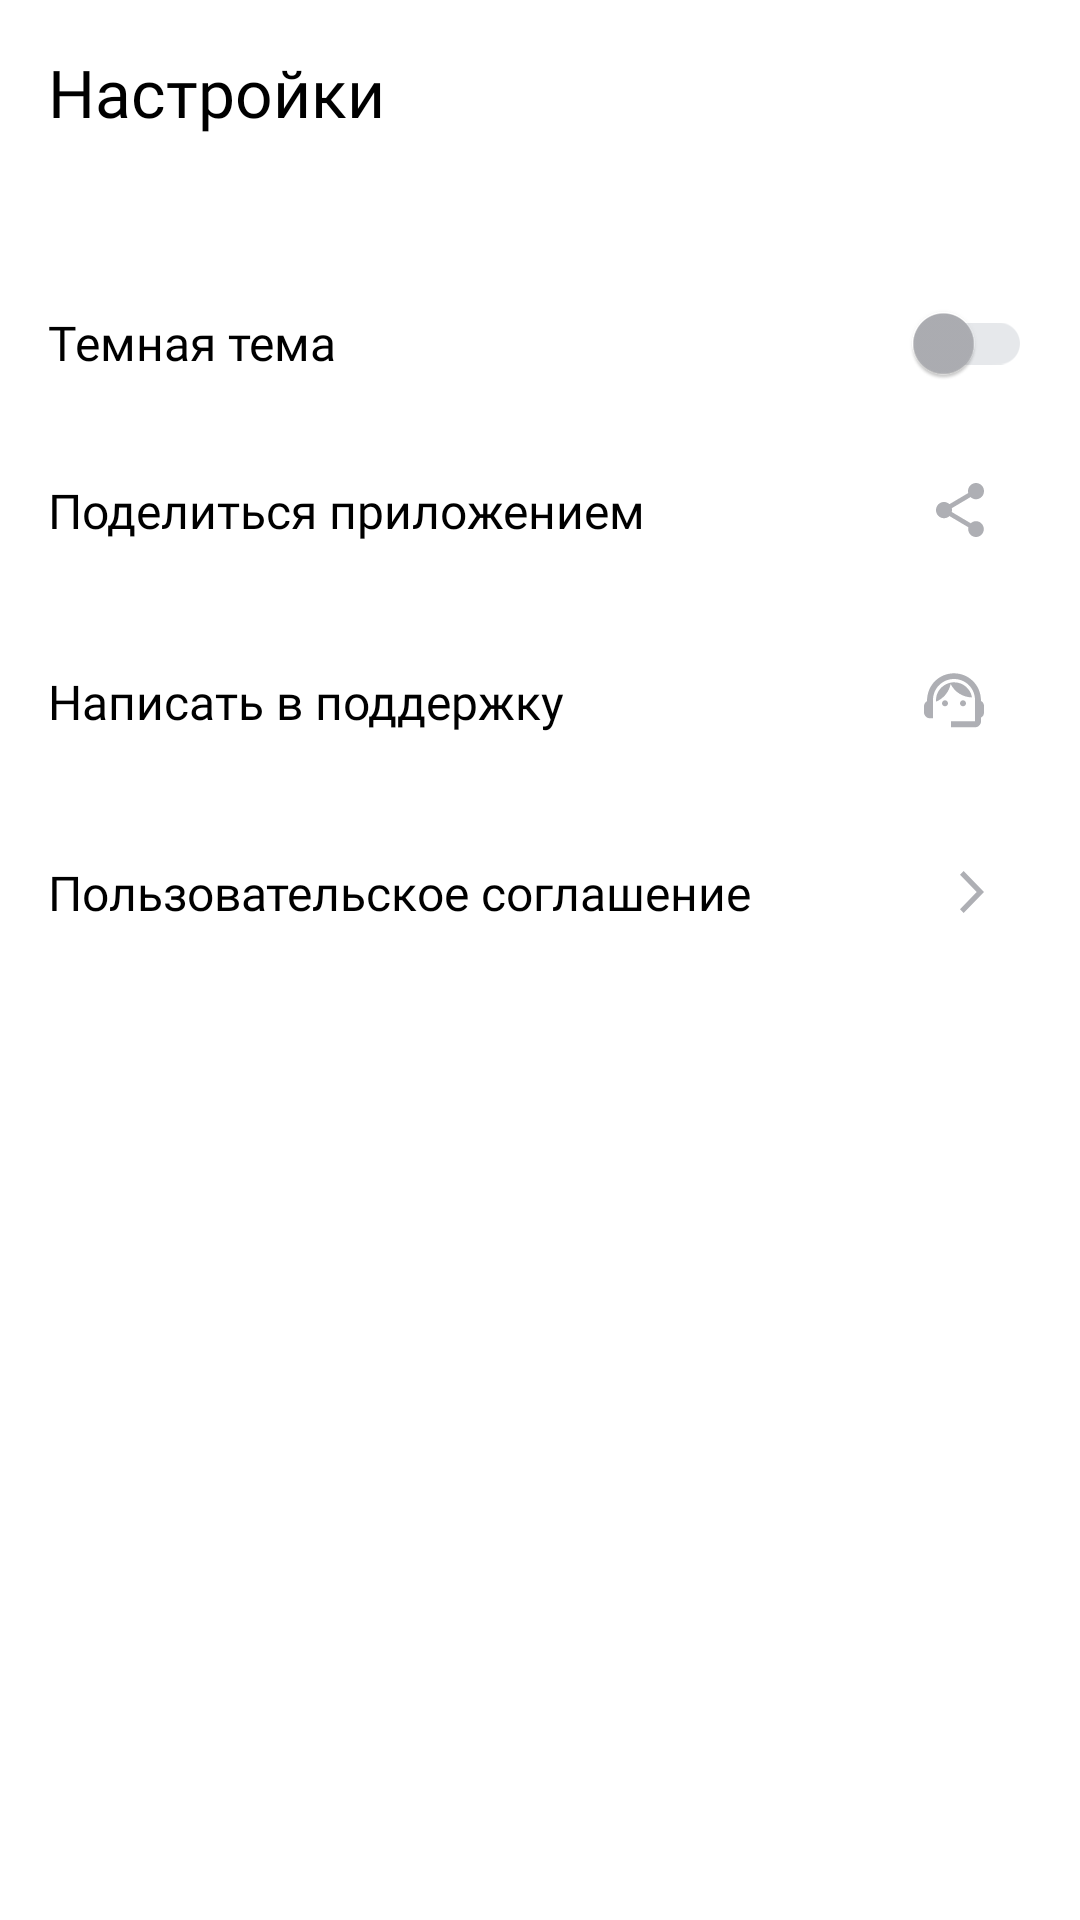

Named icons in this screenshot (1080*1920) and their centers, (x,y):
chevron: (972,892)
share: (960,510)
support: (954,700)
